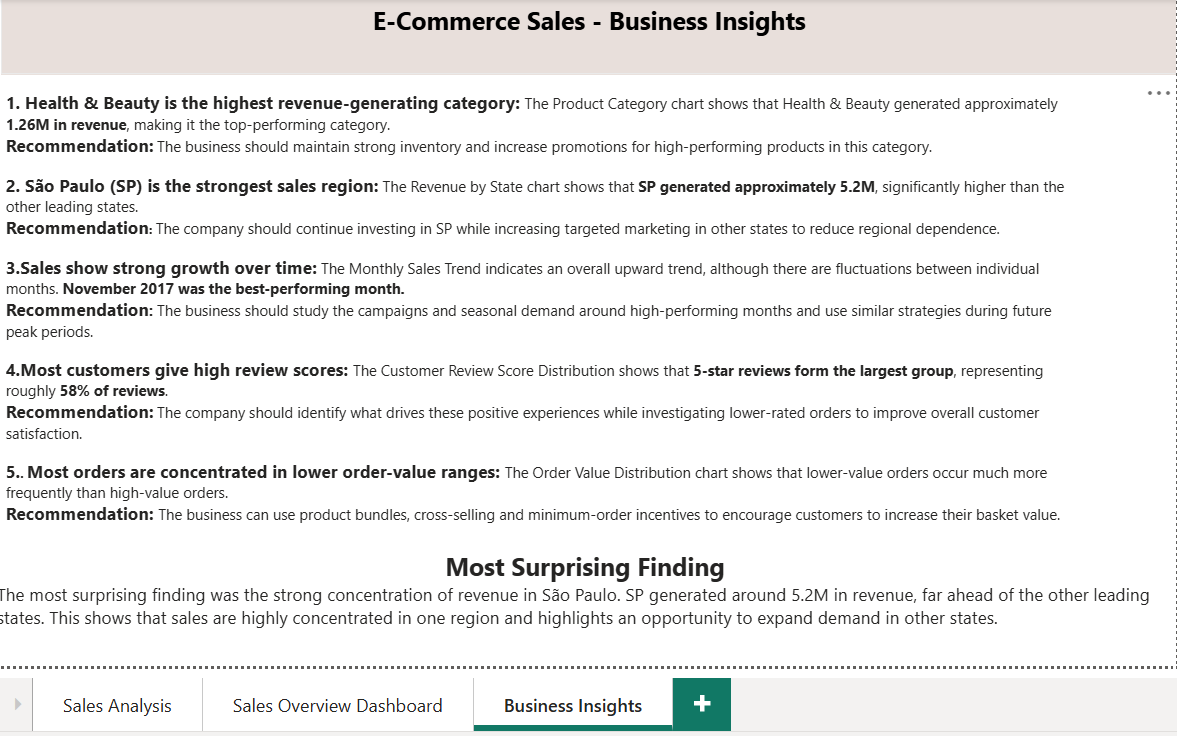

The page's visual inventory and layout, read from the dashboard file:
{"tool":"powerbi","page":{"name":"Business Insights","canvas":[1280,720],"ordinal":2},"visuals":[{"type":"textbox","box":[10,0,1270,81.7],"z":0},{"type":"textbox","box":[10,93.3,1171.7,538.3],"z":1000},{"type":"textbox","box":[0,590,1280,115],"z":2000}]}

Visuals, with their boxes on the page's 1280x720 design canvas (x1, y1, x2, y2). These are canvas units, not pixel positions in the 1177x736 screenshot, which may show the page scaled, cropped or inside an application window:
textbox: left=10, top=0, right=1280, bottom=82
textbox: left=10, top=93, right=1182, bottom=632
textbox: left=0, top=590, right=1280, bottom=705
